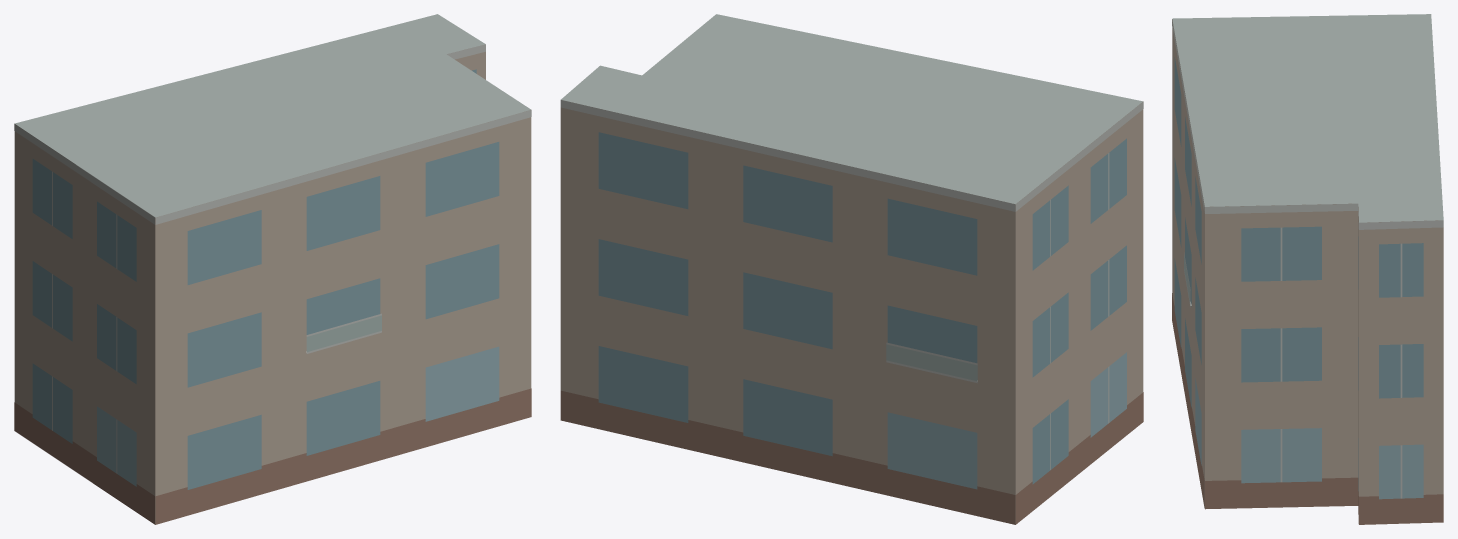
Rendered from survey-upis-32462069.glb.
3 renders of one model, left to right at view 1: azimuth 30°, elevation 25°; view 2: azimuth 150°, elevation 25°; view 3: azimuth 270°, elevation 25°, orthographic. The views are drawn at different scales.
Visible parts, largest first — view 1: survey-upis-32462069.tmp; view 2: survey-upis-32462069.tmp; view 3: survey-upis-32462069.tmp.
Boxes of the visible parts, x1=… form: survey-upis-32462069.tmp: x1=14, y1=14, x2=531, y2=524; survey-upis-32462069.tmp: x1=560, y1=14, x2=1143, y2=524; survey-upis-32462069.tmp: x1=1172, y1=14, x2=1443, y2=524.
Size of the model in its own units: 15.04 by 10.15 by 8.28.
